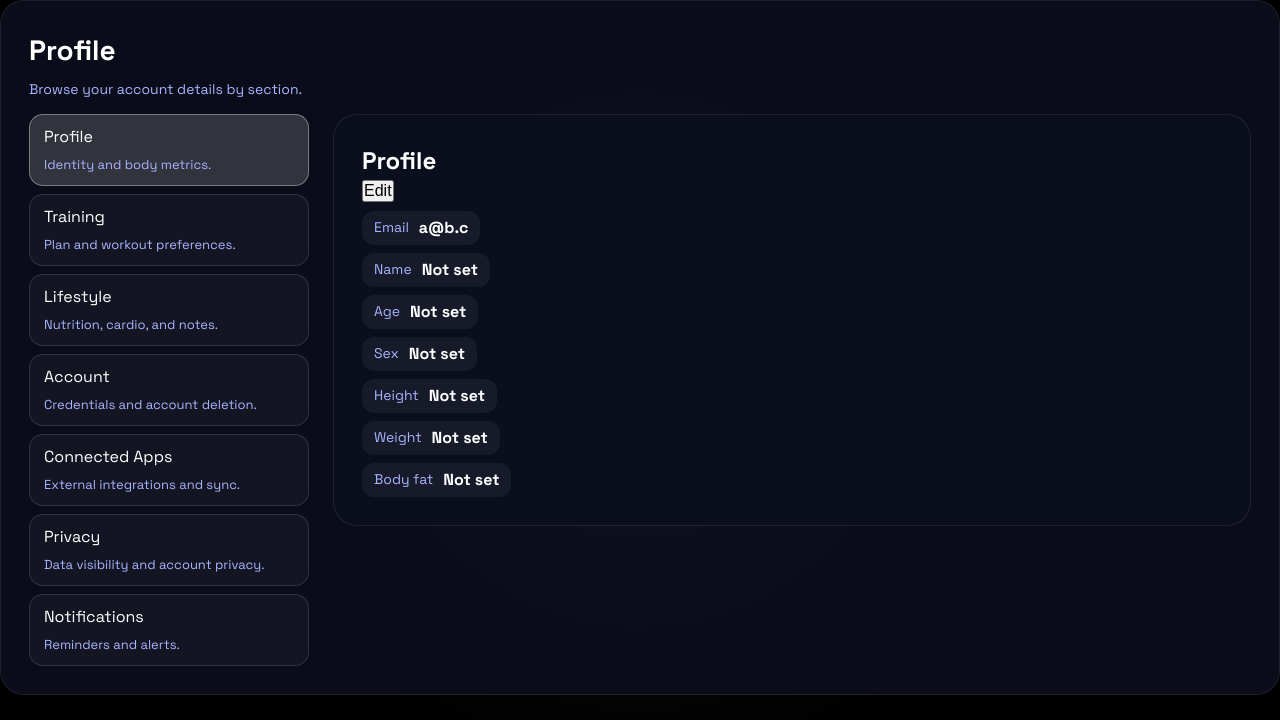
Test: the rows read the stored profile › shows a stored Training value for Timeline
Click the tab "Training Plan and workout preferences.": x=74, y=216 [29,194,309,266]
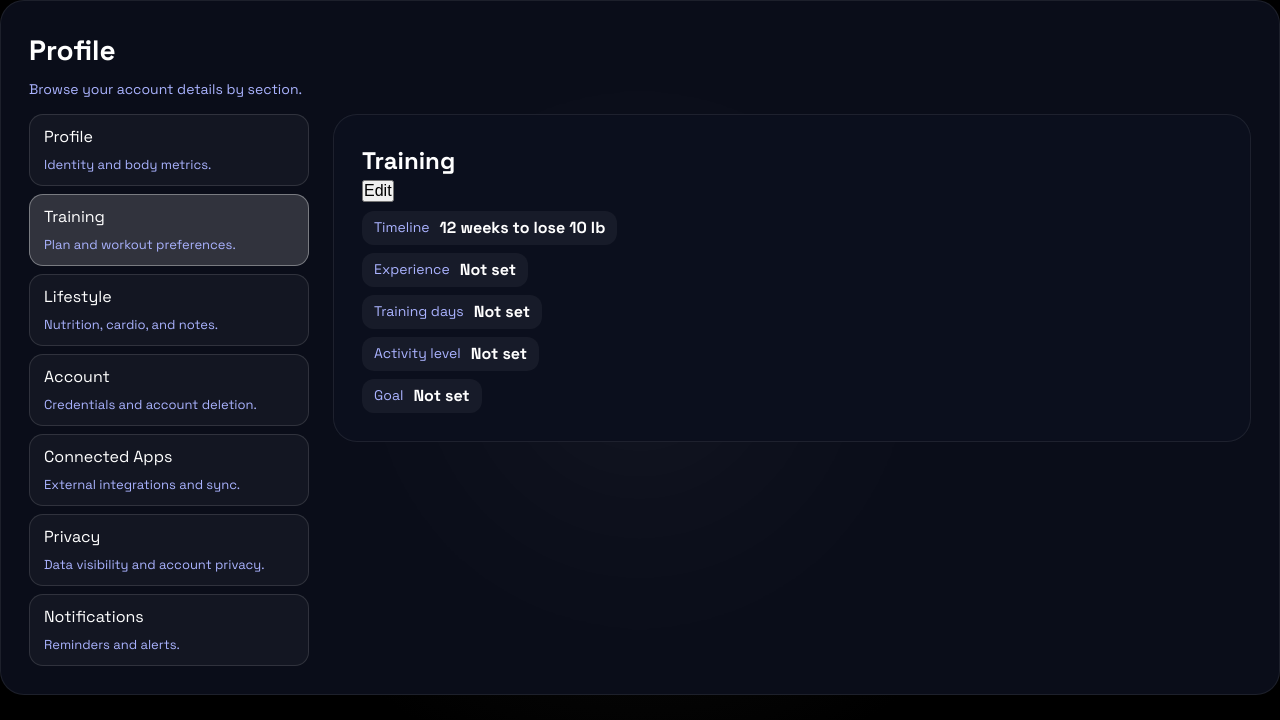
Result: the text "12 weeks to lose 10 lb" is shown at [440,218,605,238]
